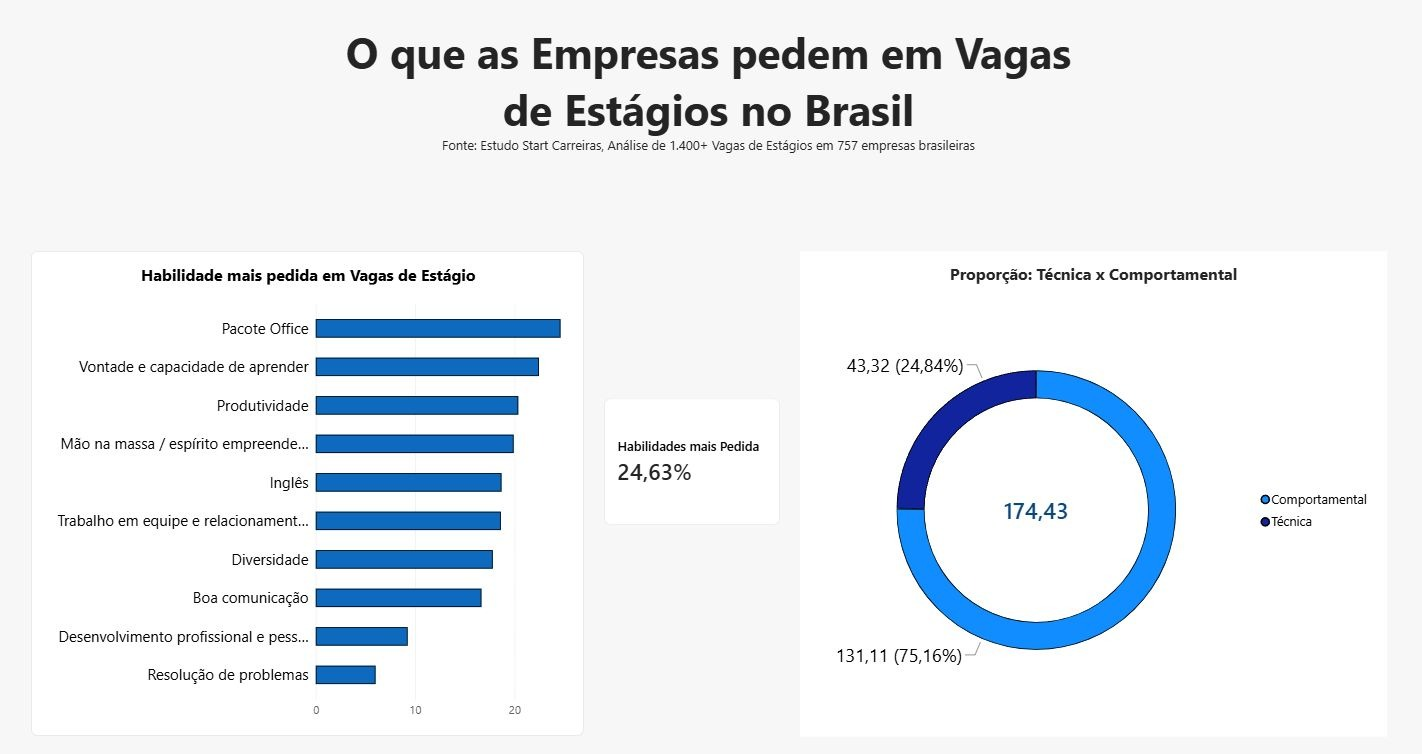

Layout of this report page (visuals, bound fields, positions):
{"tool":"powerbi","page":{"name":"SEPARANDO DADOS","canvas":[1920,1080],"ordinal":0},"visuals":[{"type":"clusteredBarChart","title":"Habilidade mais pedida em Vagas de Estágio","fields":{"Category":["habilidades_vagas_estagio_v2.Habilidade"],"Y":["Sum(habilidades_vagas_estagio_v2.Percentual_Vagas)"]},"box":[41.4,334.3,691.4,605.7],"z":0},{"type":"donutChart","title":"Proporção: Técnica x Comportamental","fields":{"Category":["habilidades_vagas_estagio_v2.Categoria"],"Y":["Sum(habilidades_vagas_estagio_v2.Percentual_Vagas)"]},"box":[1130,334.3,751.4,605.7],"z":1},{"type":"cardVisual","fields":{"Data":["habilidades_vagas_estagio_v2.TopValor"]},"box":[820,504.3,220,161.4],"z":2},{"type":"textbox","box":[505.7,48.6,908.6,184.3],"z":3}]}

Visuals, with their boxes on the page's 1920x1080 design canvas (x1, y1, x2, y2). These are canvas units, not pixel positions in the 1422x754 screenshot, which may show the page scaled, cropped or inside an application window:
"Habilidade mais pedida em Vagas de Estágio" clusteredBarChart: 41:334:733:940
"Proporção: Técnica x Comportamental" donutChart: 1130:334:1881:940
cardVisual - habilidades_vagas_estagio_v2.TopValor: 820:504:1040:666
textbox: 506:49:1414:233
